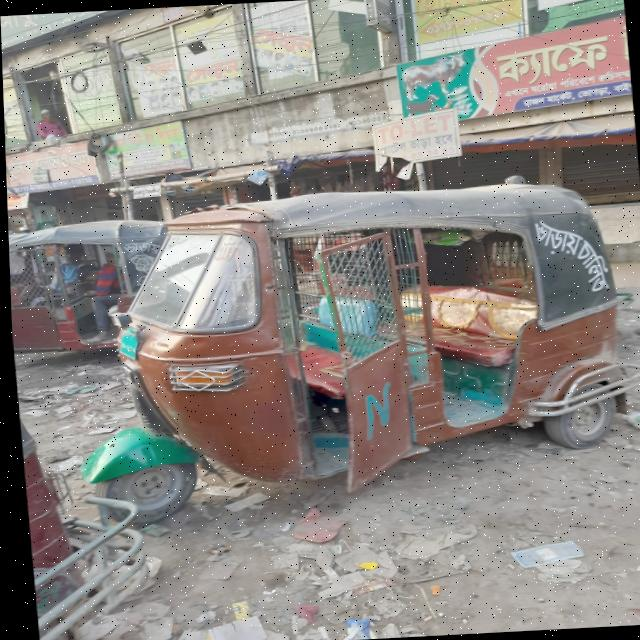cng: (77, 147, 640, 524)
